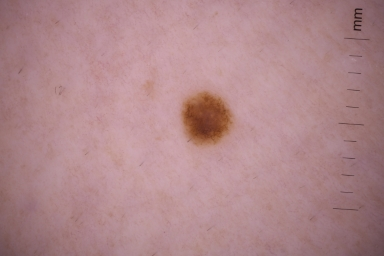melanoma: (182, 91, 232, 144)
